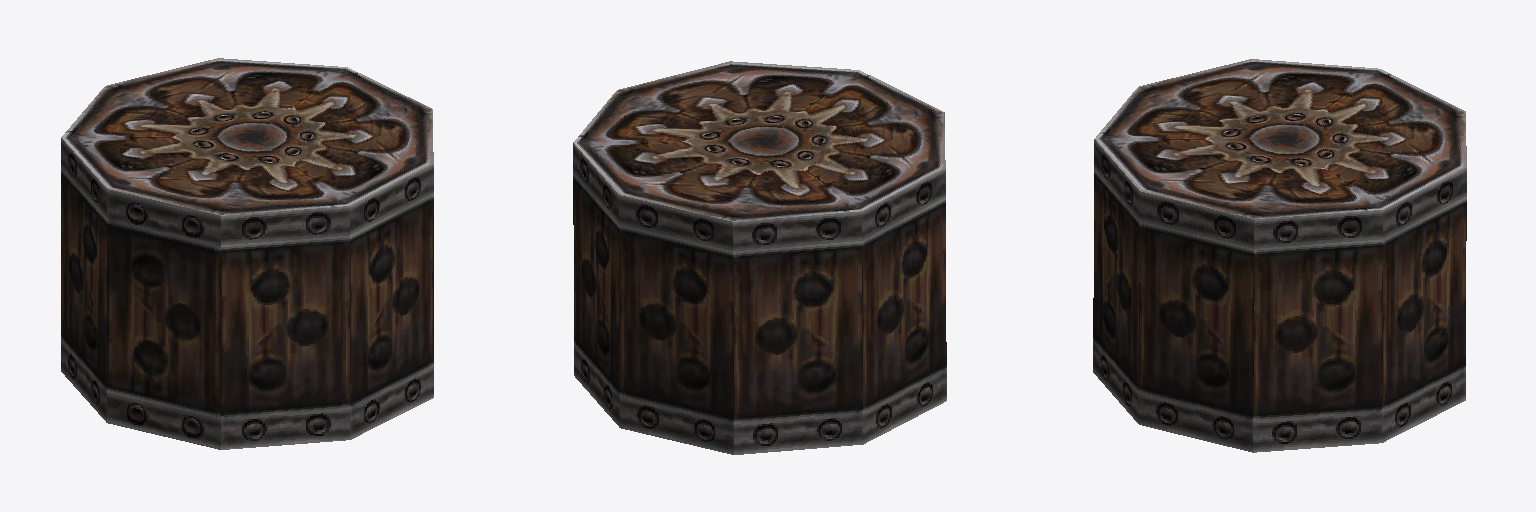
The picture shows the model from 3 angles: view 1: azimuth 30°, elevation 25°; view 2: azimuth 150°, elevation 25°; view 3: azimuth 270°, elevation 25°; orthographic projection.
Parts seen in each view (by area): view 1: ballistawheel01; view 2: ballistawheel01; view 3: ballistawheel01.
Part boxes in pixels (x1,y1,x2,y2): ballistawheel01: (61, 58, 433, 449); ballistawheel01: (573, 61, 946, 454); ballistawheel01: (1093, 59, 1466, 452).
Bounding box in the file's own units: 2.71 × 1.86 × 2.68.
2 materials, 2 textured.